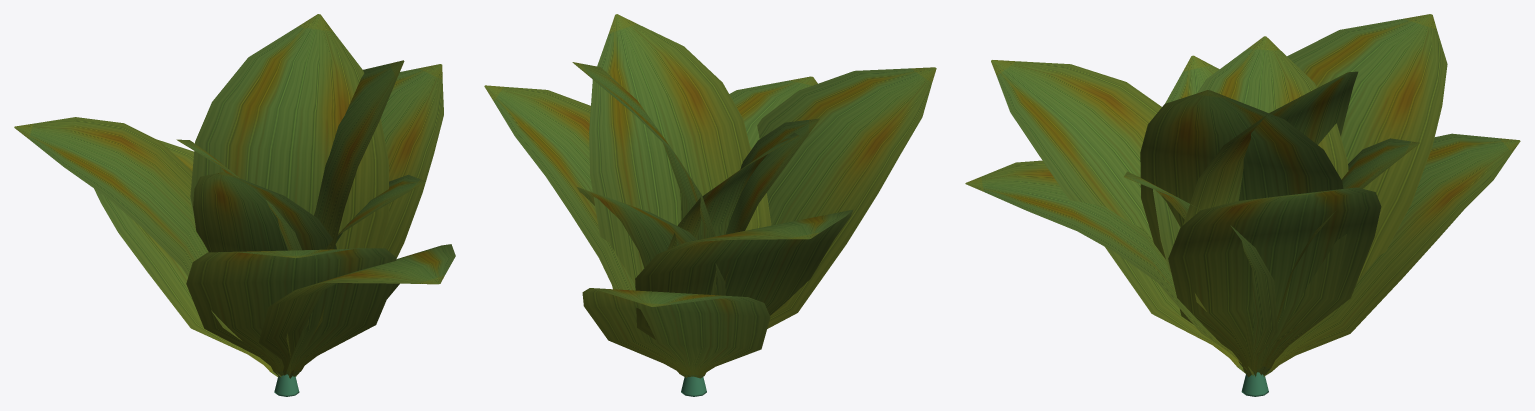
3 views of the same model, side by side, from view 1: azimuth 30°, elevation 25°; view 2: azimuth 150°, elevation 25°; view 3: azimuth 270°, elevation 25° (orthographic). The views are drawn at different scales.
Visible parts, largest first — view 1: 海草2_叶片_02.001, 海草2_叶片_08.001, 海草2_叶片_05.001, 海草2_叶片_07.001, 海草2_叶片_01.001, 海草2_叶片_11.001, 海草2_叶片_09.001, 海草2_叶片_04.001, 海草2_叶片_10.001, 海草2_叶片_06.001, 海草2_根部短茎.001; view 2: 海草2_叶片_11.001, 海草2_叶片_08.001, 海草2_叶片_05.001, 海草2_叶片_04.001, 海草2_叶片_01.001, 海草2_叶片_07.001, 海草2_叶片_03.001, 海草2_叶片_02.001, 海草2_叶片_06.001, 海草2_叶片_09.001, 海草2_叶片_10.001, 海草2_根部短茎.001; view 3: 海草2_叶片_01.001, 海草2_叶片_08.001, 海草2_叶片_05.001, 海草2_叶片_11.001, 海草2_叶片_04.001, 海草2_叶片_09.001, 海草2_叶片_02.001, 海草2_叶片_06.001, 海草2_叶片_10.001, 海草2_叶片_03.001, 海草2_叶片_07.001, 海草2_根部短茎.001.
Boxes of the visible parts, x1=… form: 海草2_叶片_02.001: x1=190, y1=14, x2=389, y2=249; 海草2_叶片_08.001: x1=186, y1=248, x2=396, y2=376; 海草2_叶片_05.001: x1=14, y1=117, x2=281, y2=377; 海草2_叶片_07.001: x1=193, y1=172, x2=336, y2=378; 海草2_叶片_01.001: x1=295, y1=64, x2=443, y2=376; 海草2_叶片_11.001: x1=292, y1=60, x2=404, y2=376; 海草2_叶片_09.001: x1=259, y1=244, x2=455, y2=375; 海草2_叶片_04.001: x1=94, y1=139, x2=278, y2=377; 海草2_叶片_10.001: x1=286, y1=174, x2=425, y2=377; 海草2_叶片_06.001: x1=176, y1=139, x2=308, y2=374; 海草2_根部短茎.001: x1=274, y1=374, x2=299, y2=396; 海草2_叶片_11.001: x1=589, y1=14, x2=750, y2=289; 海草2_叶片_08.001: x1=757, y1=67, x2=936, y2=328; 海草2_叶片_05.001: x1=635, y1=209, x2=853, y2=376; 海草2_叶片_04.001: x1=582, y1=288, x2=770, y2=378; 海草2_叶片_01.001: x1=484, y1=85, x2=686, y2=377; 海草2_叶片_07.001: x1=725, y1=118, x2=819, y2=283; 海草2_叶片_03.001: x1=577, y1=187, x2=725, y2=295; 海草2_叶片_02.001: x1=572, y1=62, x2=716, y2=294; 海草2_叶片_06.001: x1=667, y1=132, x2=799, y2=249; 海草2_叶片_09.001: x1=729, y1=76, x2=817, y2=148; 海草2_叶片_10.001: x1=745, y1=146, x2=771, y2=230; 海草2_根部短茎.001: x1=681, y1=376, x2=706, y2=396; 海草2_叶片_01.001: x1=1168, y1=187, x2=1381, y2=377; 海草2_叶片_08.001: x1=991, y1=60, x2=1245, y2=373; 海草2_叶片_05.001: x1=1274, y1=14, x2=1447, y2=362; 海草2_叶片_11.001: x1=1140, y1=90, x2=1346, y2=375; 海草2_叶片_04.001: x1=1263, y1=133, x2=1520, y2=376; 海草2_叶片_09.001: x1=965, y1=160, x2=1246, y2=369; 海草2_叶片_02.001: x1=1183, y1=71, x2=1358, y2=375; 海草2_叶片_06.001: x1=1197, y1=36, x2=1348, y2=179; 海草2_叶片_10.001: x1=1124, y1=171, x2=1278, y2=376; 海草2_叶片_03.001: x1=1267, y1=138, x2=1419, y2=350; 海草2_叶片_07.001: x1=1153, y1=55, x2=1219, y2=273; 海草2_根部短茎.001: x1=1241, y1=372, x2=1268, y2=396.
Size of the model in its own units: 566 by 479 by 674.
4 materials, 3 textured.
